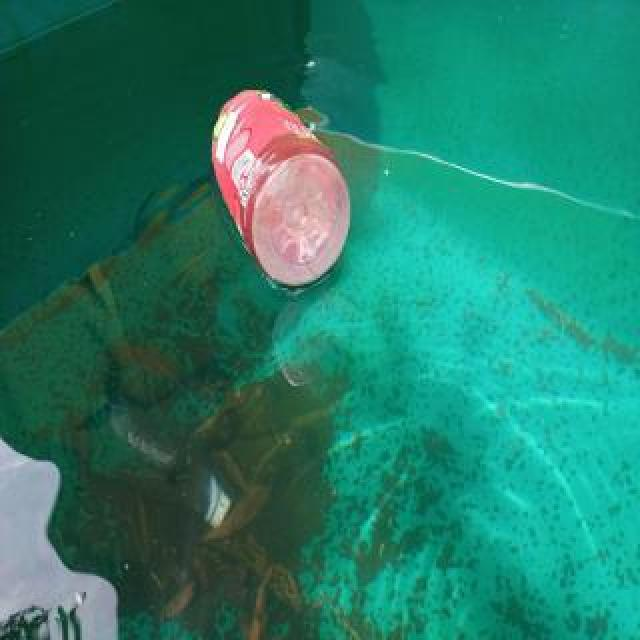bottle: (210, 85, 352, 289)
